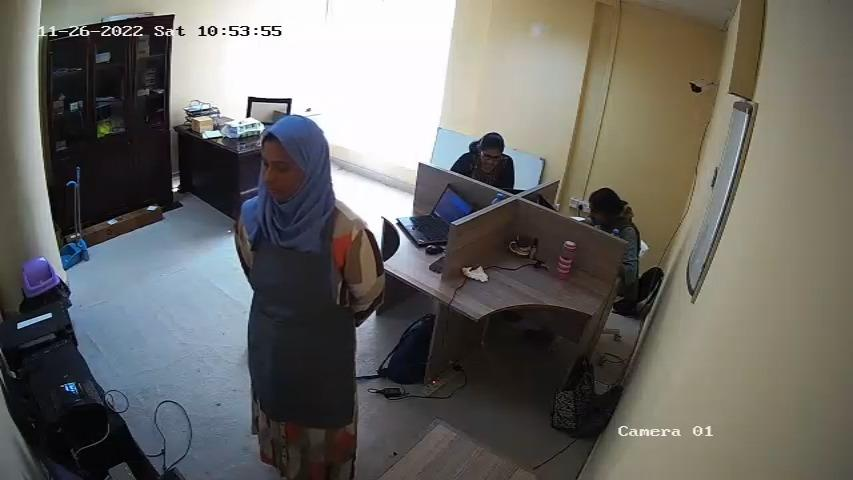apron: (243, 216, 358, 428)
